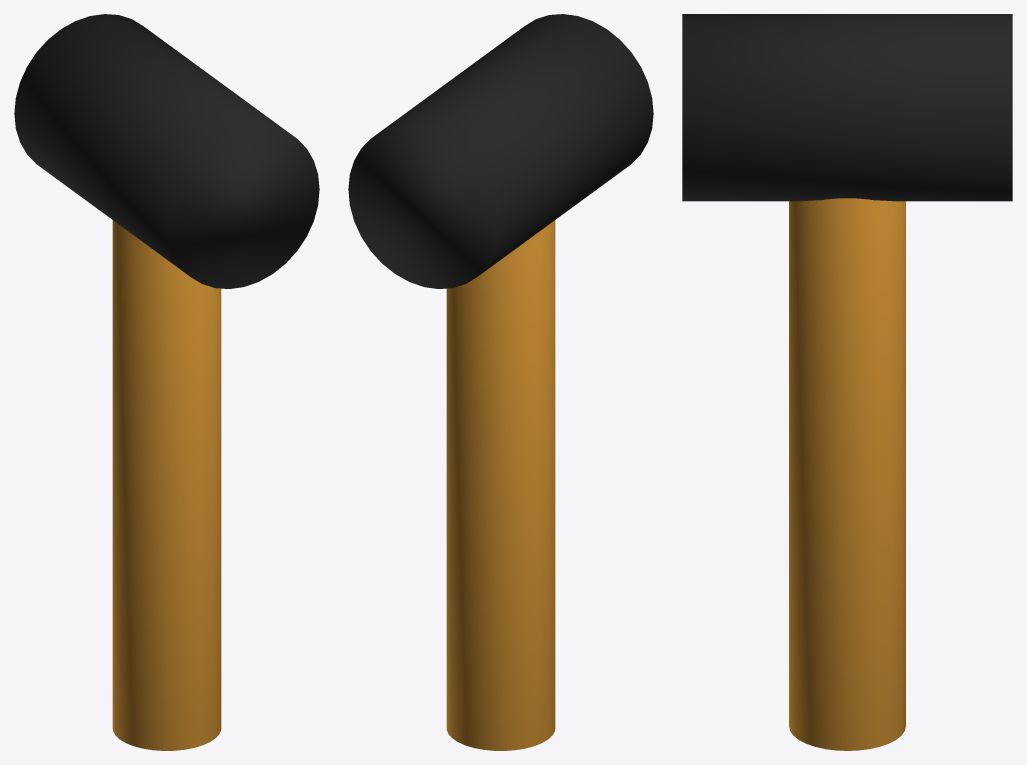
Rendered from Martillo.fbx.
The picture shows the model from 3 angles, left to right: view 1: azimuth 30°, elevation 25°; view 2: azimuth 150°, elevation 25°; view 3: azimuth 270°, elevation 25°; orthographic projection. The views are drawn at different scales.
Visible parts, largest first — view 1: Cylinder, Cylinder.001; view 2: Cylinder, Cylinder.001; view 3: Cylinder, Cylinder.001.
Part boxes in pixels (x1=…): Cylinder: x1=112, y1=220, x2=221, y2=750; Cylinder.001: x1=14, y1=14, x2=319, y2=288; Cylinder: x1=446, y1=220, x2=555, y2=750; Cylinder.001: x1=348, y1=14, x2=653, y2=288; Cylinder: x1=789, y1=198, x2=905, y2=750; Cylinder.001: x1=682, y1=14, x2=1012, y2=201.
Size of the model in its own units: 321 by 1327 by 565.
